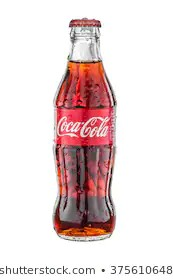coke-glass-bottle: (48, 17, 121, 241)
